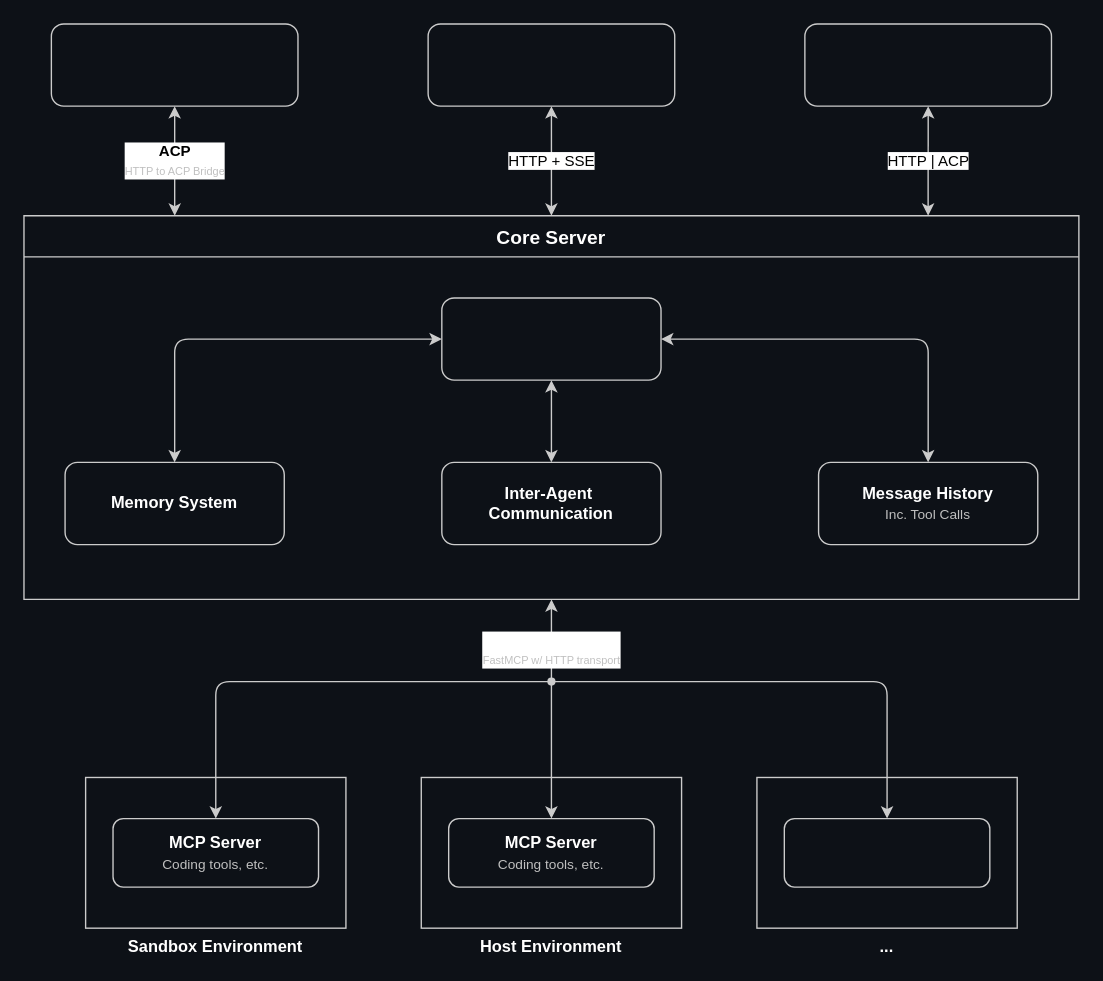
The diagram is 1103 pixels wide and 981 high, and some of its shapes have lost their labels. Here are the shapes that lost their labels. From the top down, the centre of each, then its label:
At (174,64): "Nori TUI or any ACP client".
At (551,64): "Management CLI Agent CRUD, etc.".
At (927,64): "Misc Interfaces Telegram, etc.".
At (550,338): "Agent Loop Pydantic AI".
At (886,852): "MCP Server Any server".
